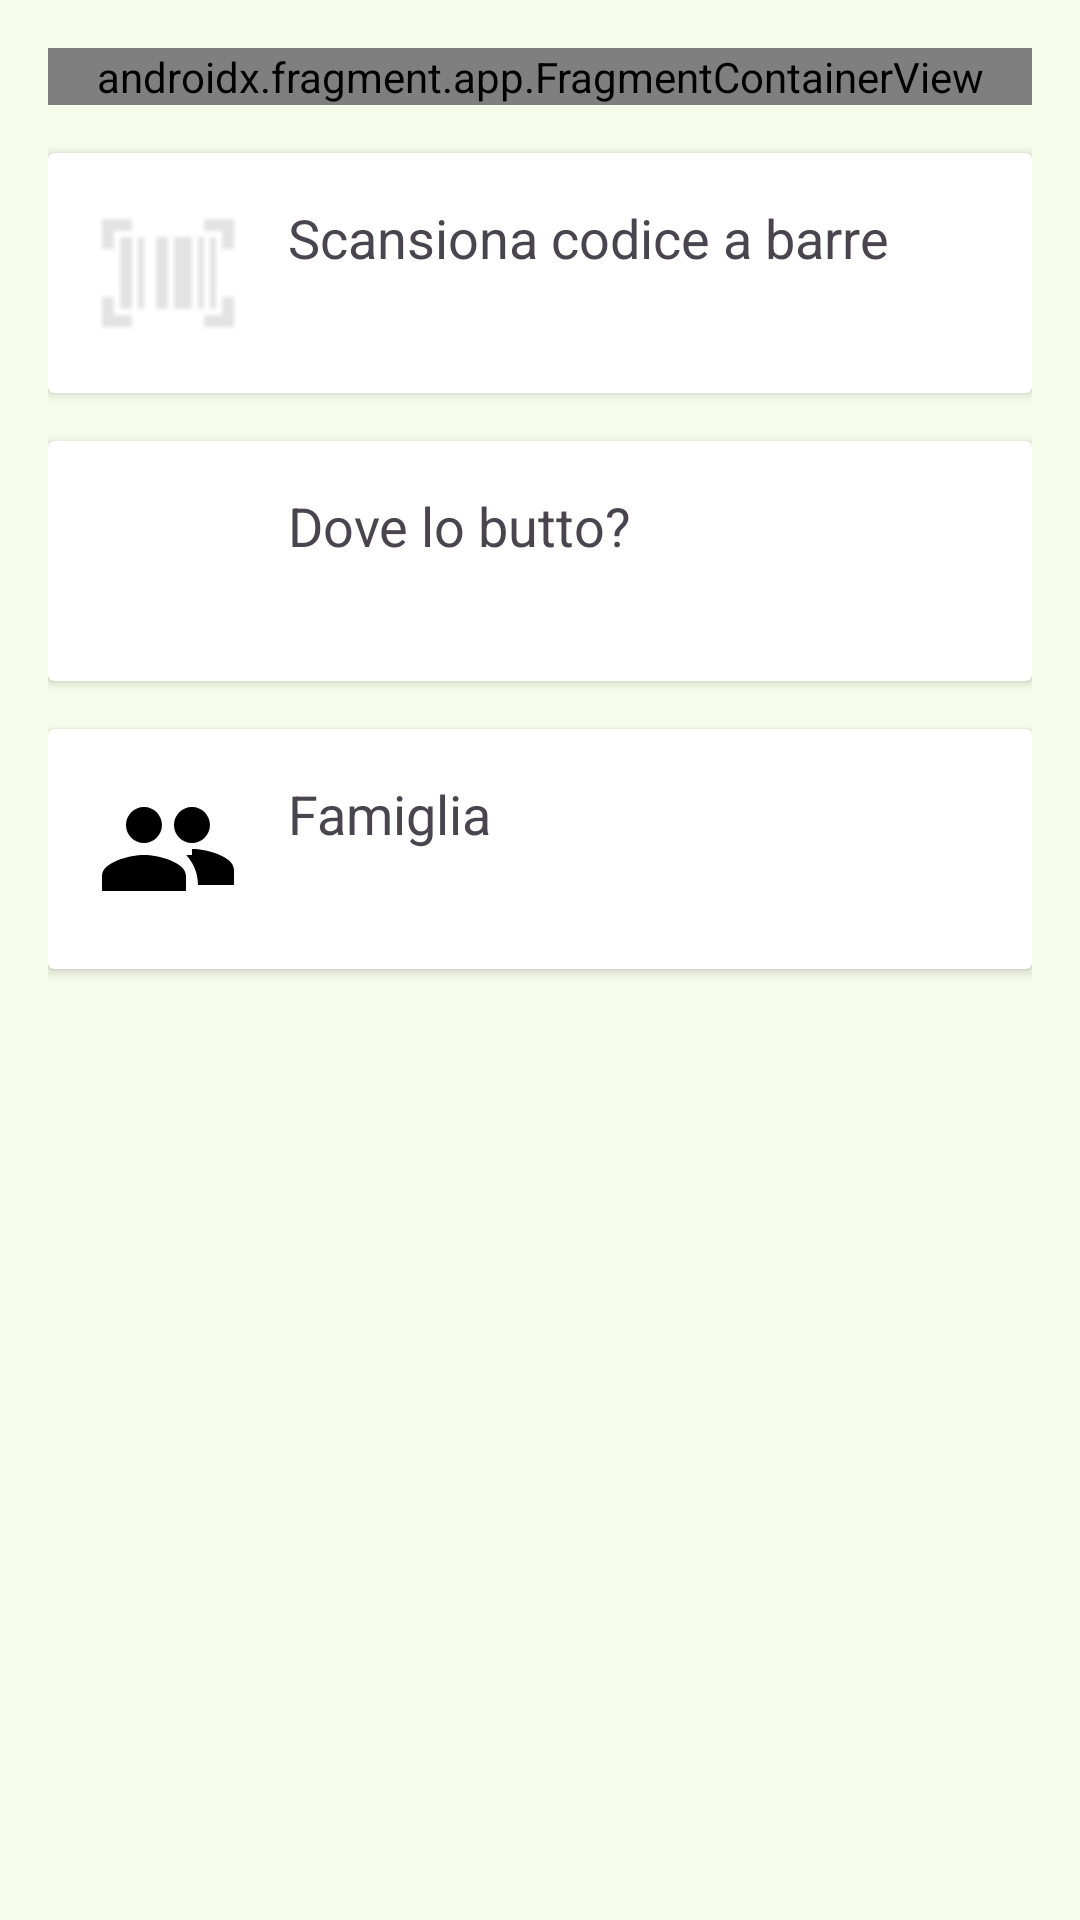

Named icons in this screenshot (1080px x 1920px) and their bounding boxes, rect(x1, y1, x2, y2):
barcode: rect(104, 221, 232, 325)
family: rect(102, 807, 234, 891)
